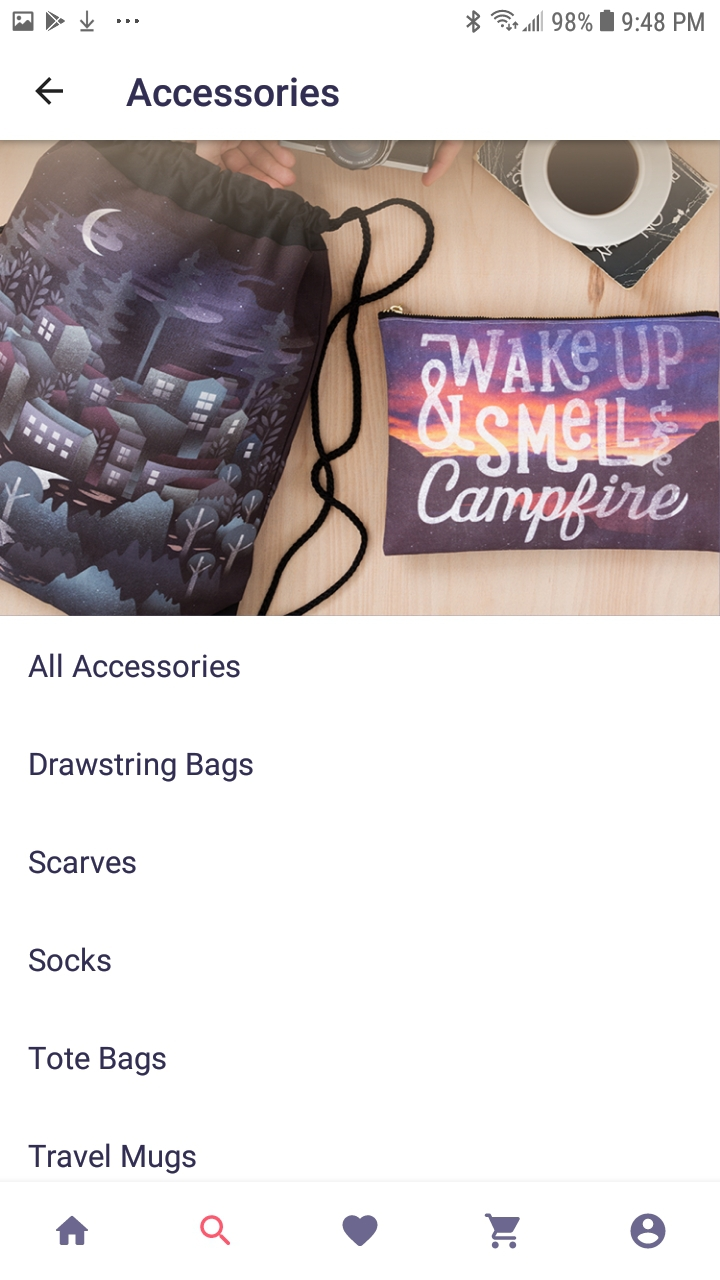Icon: (484, 1212, 521, 1249), (630, 1213, 666, 1249), (342, 1214, 379, 1247), (57, 1215, 90, 1246), (200, 1214, 231, 1246), (35, 77, 64, 106)
Image: (1, 141, 720, 617)
Text: (30, 752, 254, 783), (127, 77, 340, 108), (28, 653, 241, 679), (28, 1143, 197, 1175), (29, 1046, 168, 1077), (29, 850, 137, 875), (29, 947, 112, 973)
UpperTaskBar: (1, 1, 720, 36)
